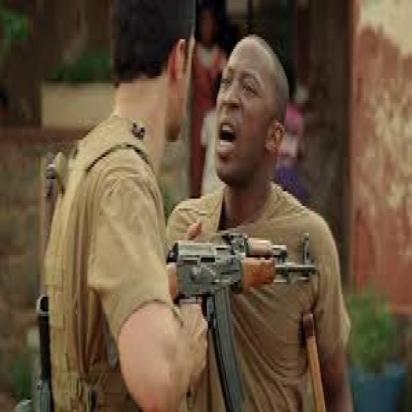Gun: (160, 230, 321, 412)
